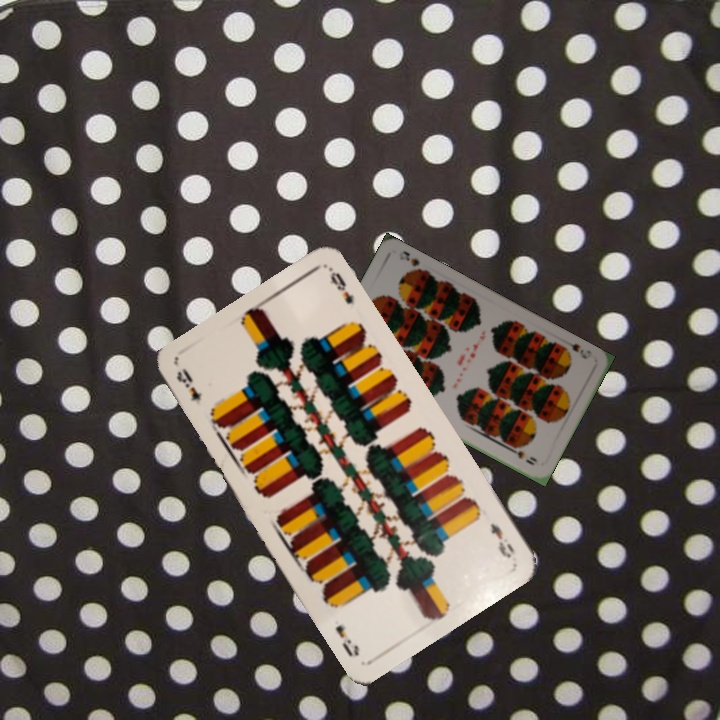E9: (486, 518, 517, 561), (172, 364, 204, 404)
S9: (557, 336, 594, 362)
